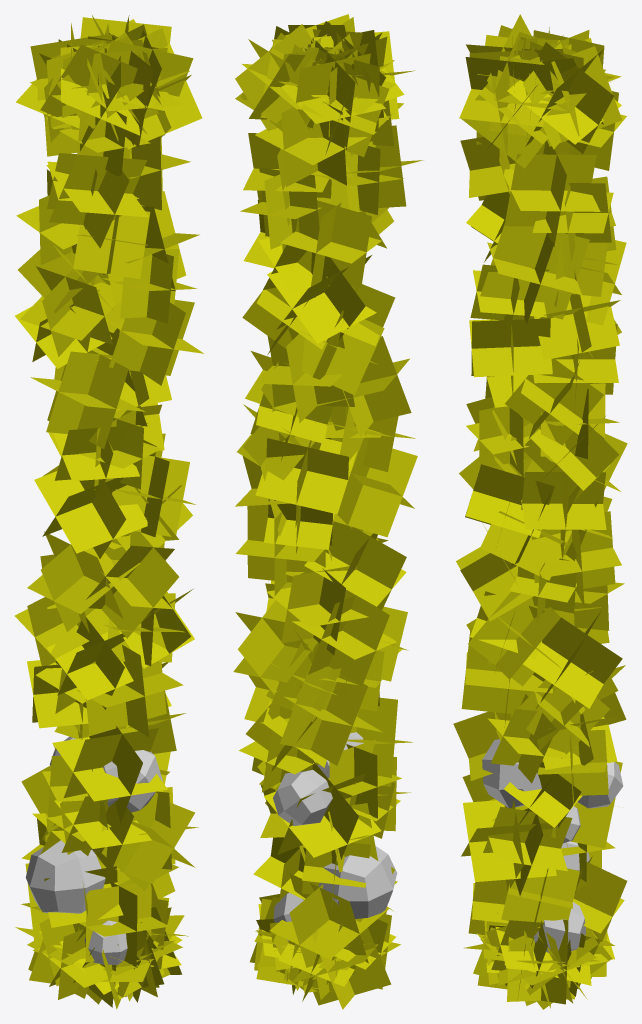
Rendered from vines.obj.
3 views of the same model, side by side, from view 1: azimuth 30°, elevation 25°; view 2: azimuth 150°, elevation 25°; view 3: azimuth 270°, elevation 25° (orthographic).
Parts seen in each view (by area): view 1: Plane.001_Plane.003, Cube.003_Cube.007; view 2: Plane.001_Plane.003, Cube.003_Cube.007; view 3: Plane.001_Plane.003, Cube.003_Cube.007.
Boxes of the visible parts, x1,y1,x2,y2 form: Plane.001_Plane.003: (14, 15, 203, 1009); Cube.003_Cube.007: (25, 736, 162, 965); Plane.001_Plane.003: (233, 14, 423, 1009); Cube.003_Cube.007: (273, 732, 397, 940); Plane.001_Plane.003: (453, 14, 627, 1009); Cube.003_Cube.007: (482, 739, 623, 952).
Size of the model in its own units: 18.66 by 116 by 18.9.
